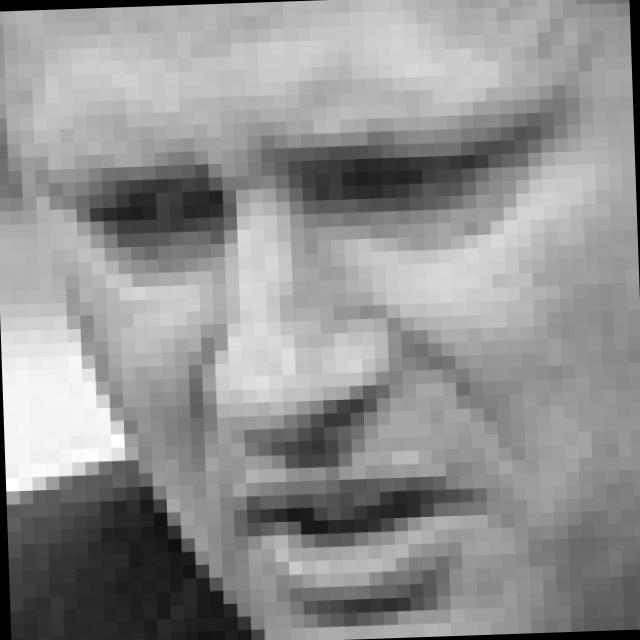disgust: (65, 111, 568, 630)
